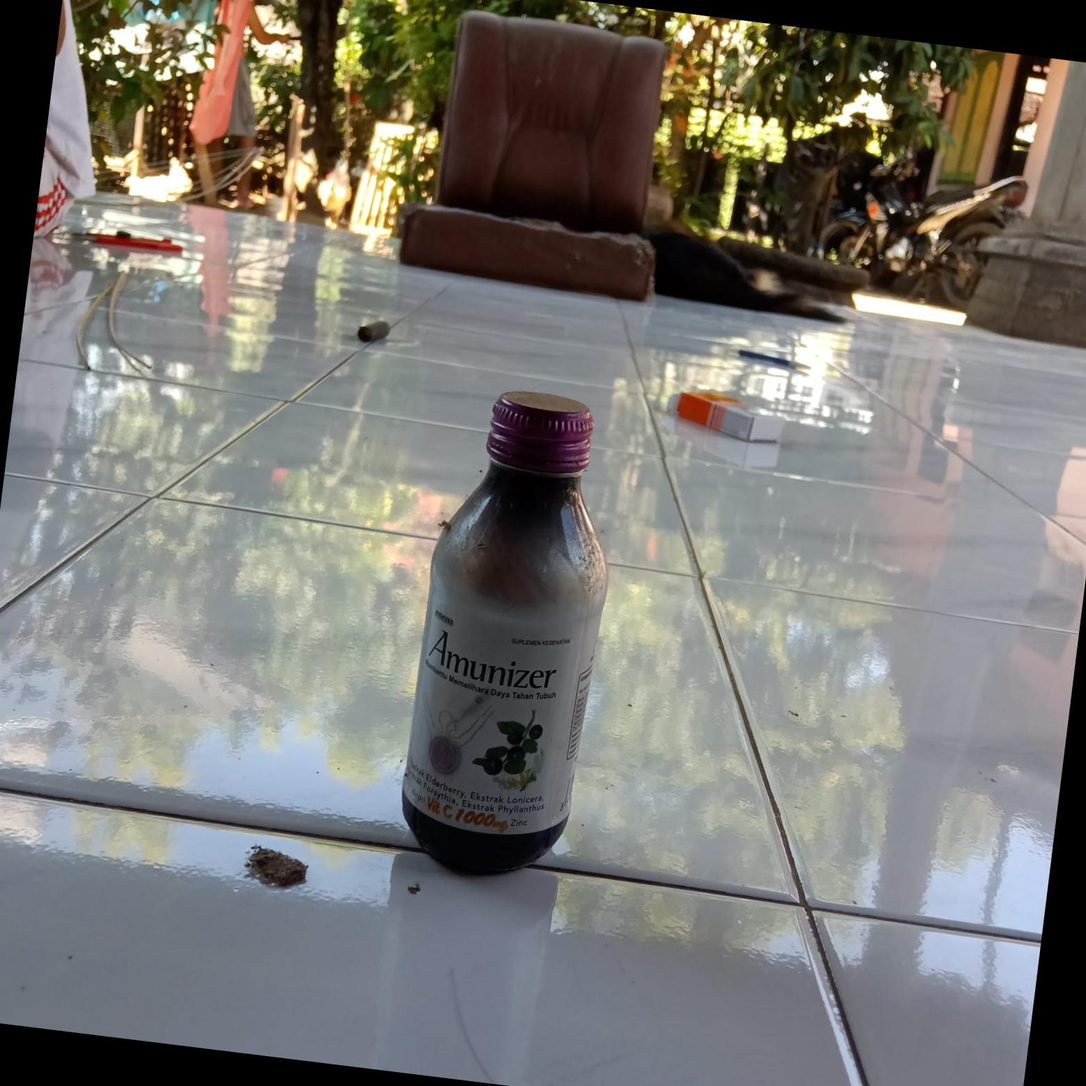Plastik: (397, 382, 629, 887)
